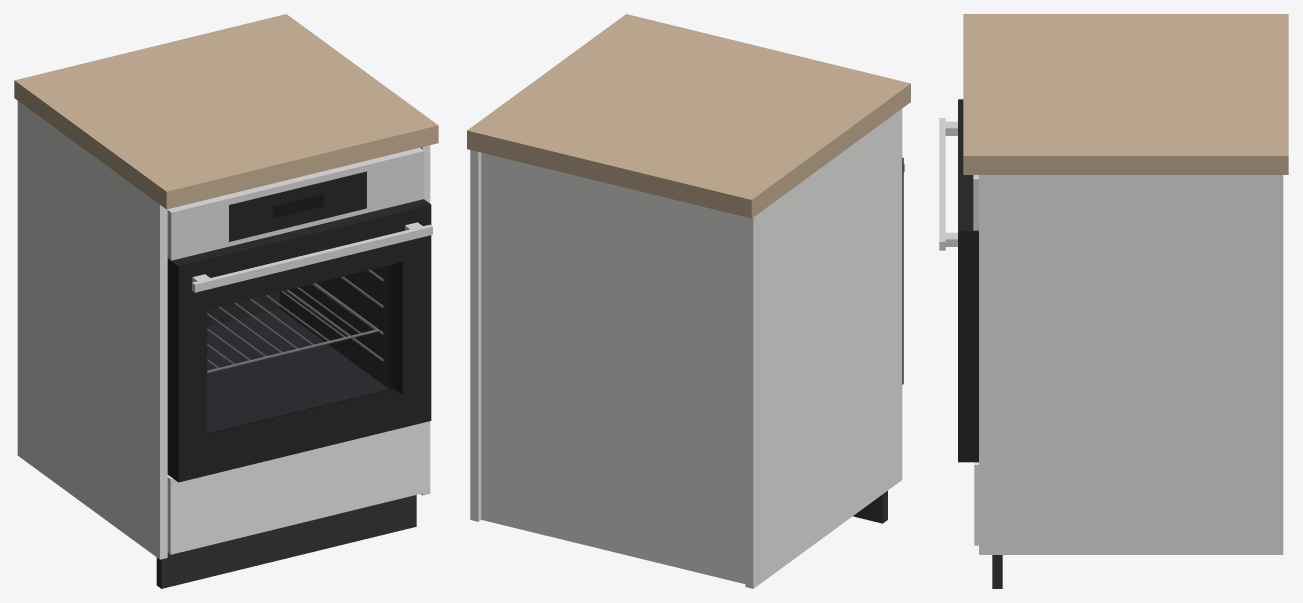
The picture shows the model from 3 angles, left to right: view 1: azimuth 30°, elevation 25°; view 2: azimuth 150°, elevation 25°; view 3: azimuth 270°, elevation 25°; orthographic projection. The views are drawn at different scales.
Parts seen in each view (by area): view 1: Cabinet, Door, Worktop, Cavity, DrawerFront, ControlPanel, WireShelf, Bezel, Display, ShelfRails; view 2: Cabinet, Worktop; view 3: Cabinet, Worktop, Door.
Boxes of the visible parts, left/top/right/bottom form: Cabinet: left=17, top=101, right=430, bottom=588; Door: left=168, top=199, right=432, bottom=482; Worktop: left=14, top=14, right=438, bottom=209; Cavity: left=207, top=265, right=390, bottom=432; DrawerFront: left=167, top=422, right=423, bottom=554; ControlPanel: left=167, top=147, right=424, bottom=260; WireShelf: left=207, top=283, right=378, bottom=373; Bezel: left=167, top=257, right=392, bottom=474; Display: left=272, top=194, right=323, bottom=218; ShelfRails: left=286, top=270, right=383, bottom=361; Cabinet: left=470, top=109, right=902, bottom=588; Worktop: left=467, top=14, right=910, bottom=218; Cabinet: left=979, top=175, right=1283, bottom=588; Worktop: left=963, top=14, right=1288, bottom=174; Door: left=939, top=99, right=978, bottom=462.
Bounding box in the file's own units: 0.64 × 0.92 × 0.666.
